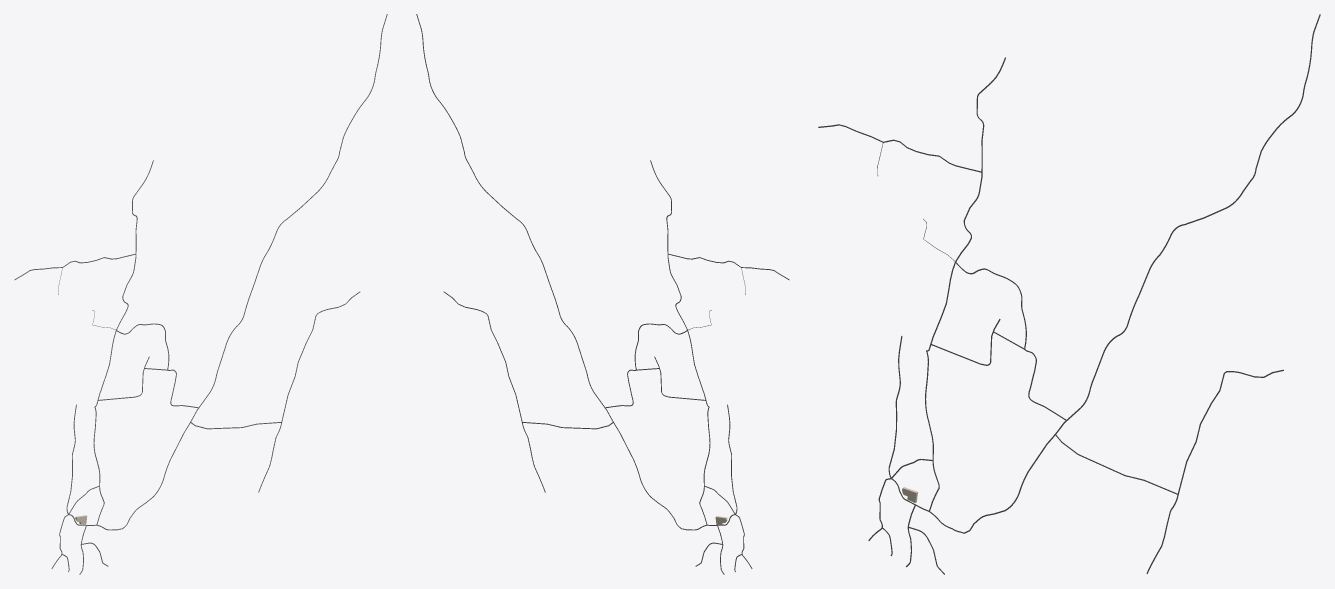
File: historic-palestine-09_29_3507_3237.glb
The picture shows the model from 3 angles, left to right: view 1: azimuth 30°, elevation 25°; view 2: azimuth 150°, elevation 25°; view 3: azimuth 330°, elevation 25°; orthographic projection. The views are drawn at different scales.
Parts seen in each view (by area): view 1: Road Raml Attil; view 2: Road Raml Attil; view 3: Road Raml Attil.
Part boxes in pixels (left/top/right/bottom): Road Raml Attil: left=66, top=14, right=387, bottom=530; Road Raml Attil: left=416, top=14, right=737, bottom=530; Road Raml Attil: left=888, top=14, right=1320, bottom=533.
Bounding box in the file's own units: 1344 × 1671 × 9.09.
